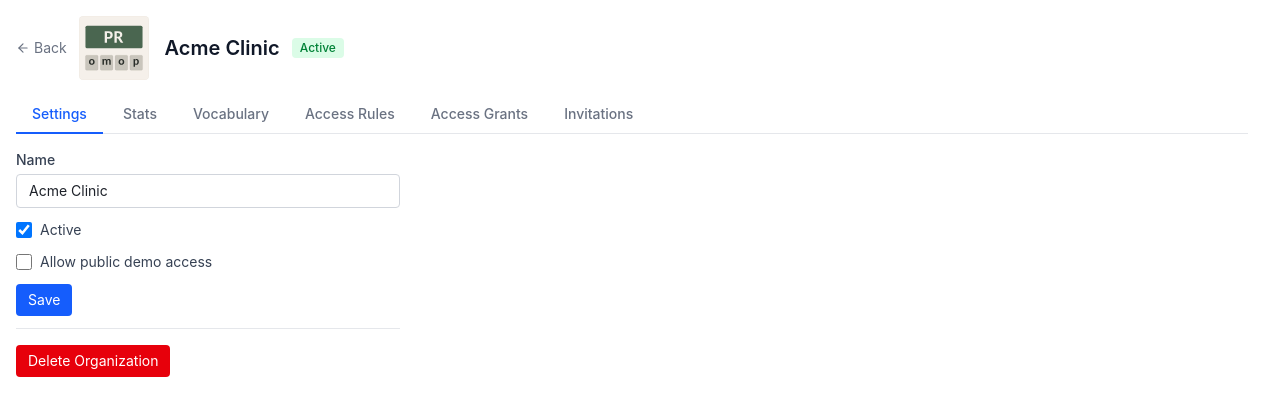
Scenario: OrgDetail — Vocabulary › loads and renders organization vocabulary usage
Check: the heading "Acme Clinic" is shown, box x1=165 y1=34 x2=280 y2=62
Click the button "Vocabulary".
click(231, 115)  # box x1=177 y1=96 x2=285 y2=134
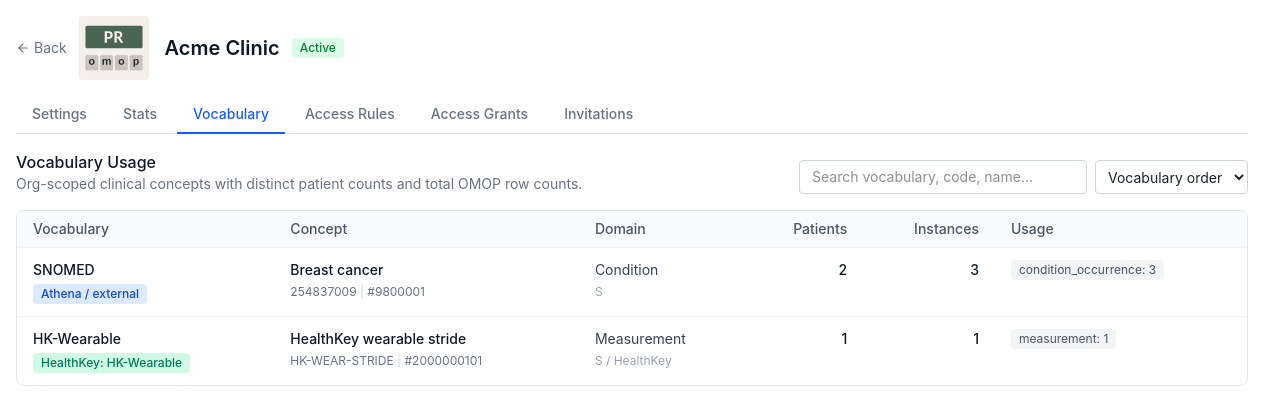
Check: the text "Breast cancer" is shown, box x1=290 y1=261 x2=383 y2=278
Check: the text "SNOMED" is shown, box x1=33 y1=261 x2=95 y2=278
Check: the text "HK-Wearable" is shown, box x1=33 y1=330 x2=121 y2=347
